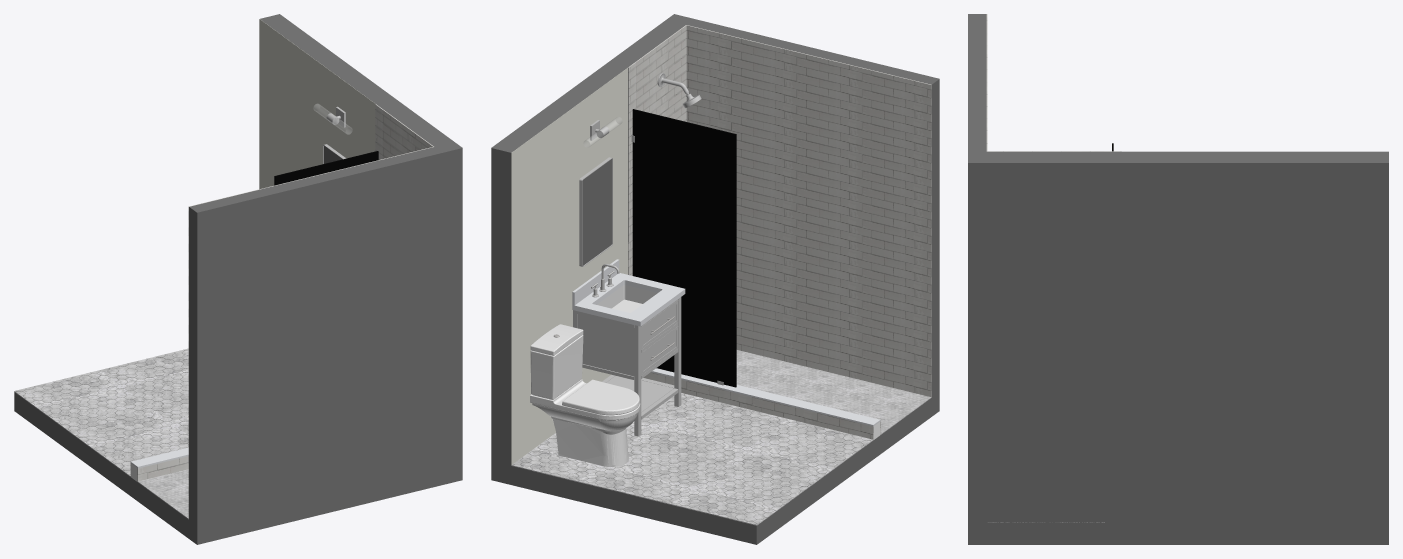
3 renders of one model, left to right at view 1: azimuth 30°, elevation 25°; view 2: azimuth 150°, elevation 25°; view 3: azimuth 270°, elevation 25°, orthographic. The views are drawn at different scales.
Visible parts, largest first — view 1: 3DGeom-68, 3DGeom-34, 3DGeom-58, 3DGeom-69, 3DGeom-35, 3DGeom-60, 3DGeom-33, 3DGeom-37, 3DGeom-63, 3DGeom-59; view 2: 3DGeom-59, 3DGeom-58, 3DGeom-34, 3DGeom-37, 3DGeom-69, 3DGeom-35, 3DGeom-31, 3DGeom-33, 3DGeom-68, 3DGeom-3, 3DGeom-60, 3DGeom-29 (+9 smaller); view 3: 3DGeom-69, 3DGeom-35, 3DGeom-68.
Part boxes in pixels (x1,y1,x2,y2): 3DGeom-68: (189, 147, 442, 525); 3DGeom-34: (14, 348, 188, 476); 3DGeom-58: (259, 19, 375, 189); 3DGeom-69: (260, 14, 462, 465); 3DGeom-35: (14, 392, 462, 544); 3DGeom-60: (382, 109, 433, 158); 3DGeom-33: (137, 469, 188, 519); 3DGeom-37: (274, 151, 378, 185); 3DGeom-63: (137, 456, 188, 481); 3DGeom-59: (188, 146, 433, 519); 3DGeom-59: (686, 25, 931, 397); 3DGeom-58: (511, 68, 627, 464); 3DGeom-34: (511, 393, 873, 525); 3DGeom-37: (632, 109, 736, 387); 3DGeom-69: (491, 14, 693, 465); 3DGeom-35: (491, 392, 939, 544); 3DGeom-31: (573, 297, 681, 436); 3DGeom-33: (736, 350, 931, 435); 3DGeom-68: (686, 19, 939, 397); 3DGeom-3: (530, 324, 640, 462); 3DGeom-60: (635, 25, 686, 121); 3DGeom-29: (572, 259, 685, 326); 3DGeom-69: (968, 151, 1388, 522); 3DGeom-35: (968, 523, 1388, 544); 3DGeom-68: (968, 14, 986, 151).
Size of the model in its own units: 2.17 by 2.59 by 2.59.
